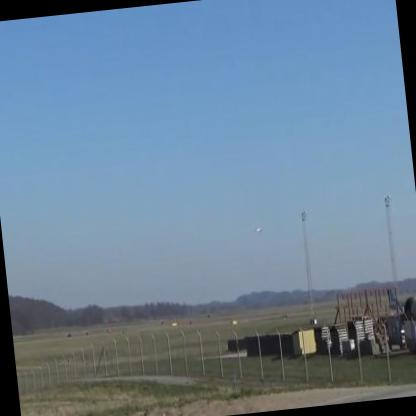plane: (252, 223, 263, 236)
